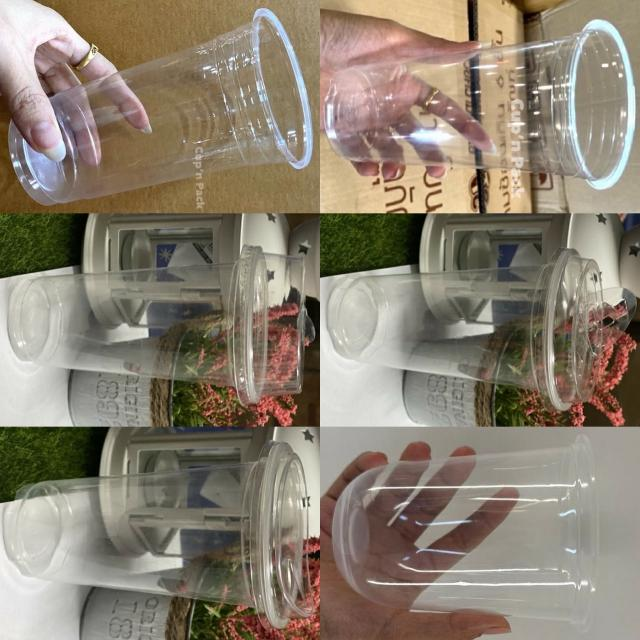Single-Use-Plastic: (9, 9, 313, 205), (5, 441, 313, 628), (324, 20, 634, 189), (333, 435, 598, 626), (8, 245, 305, 404), (327, 249, 603, 409)
